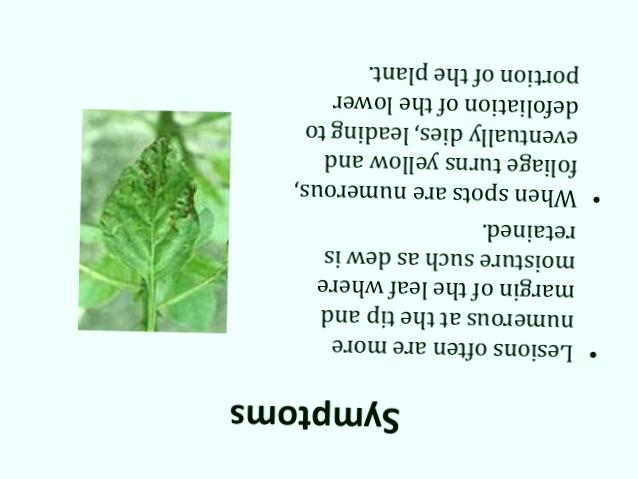Tomato leaf bacterial spot: (99, 125, 202, 284)
